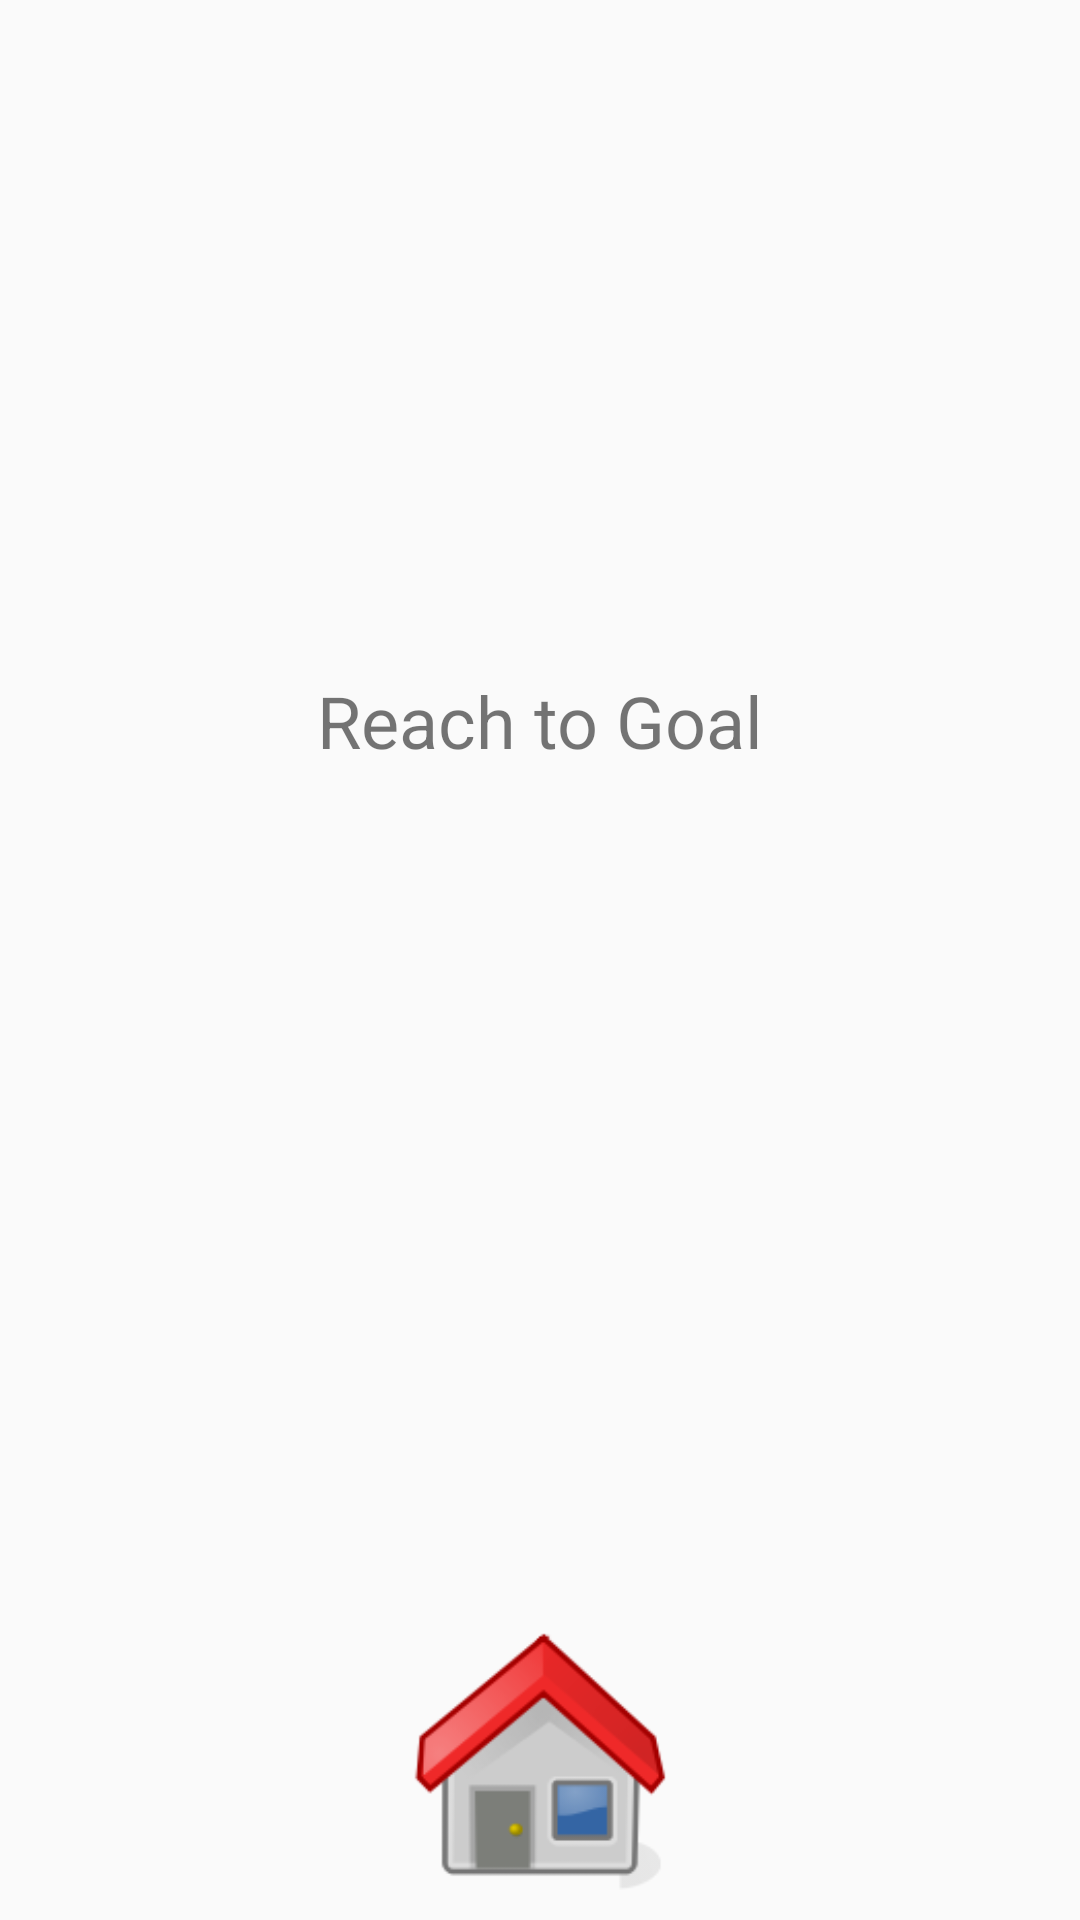

Screen size 1080w x 1920h. Icon name, then its box in pixels as (x1, y1, x2, y2):
home: (415, 1633, 666, 1876)
